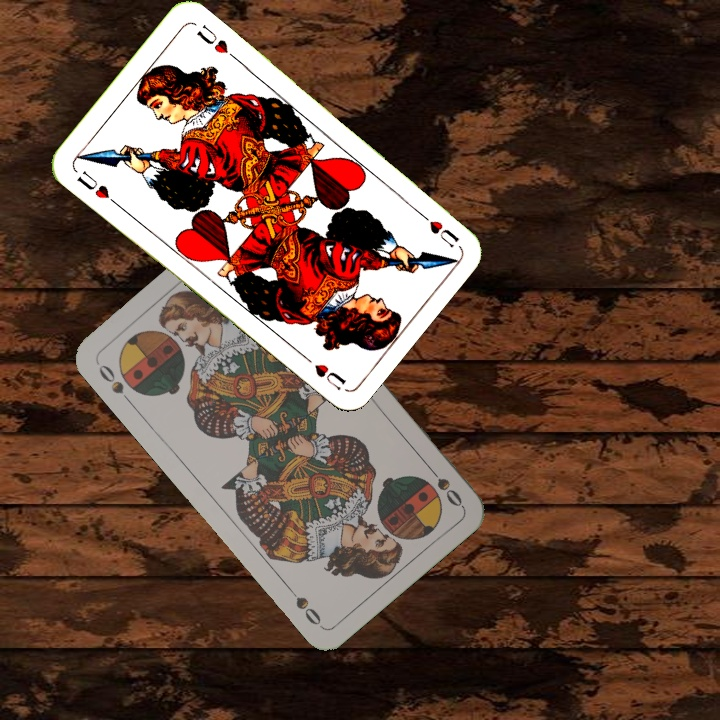HU: (412, 206, 462, 251), (72, 166, 121, 208)
SO: (422, 460, 465, 510), (94, 360, 136, 408)
